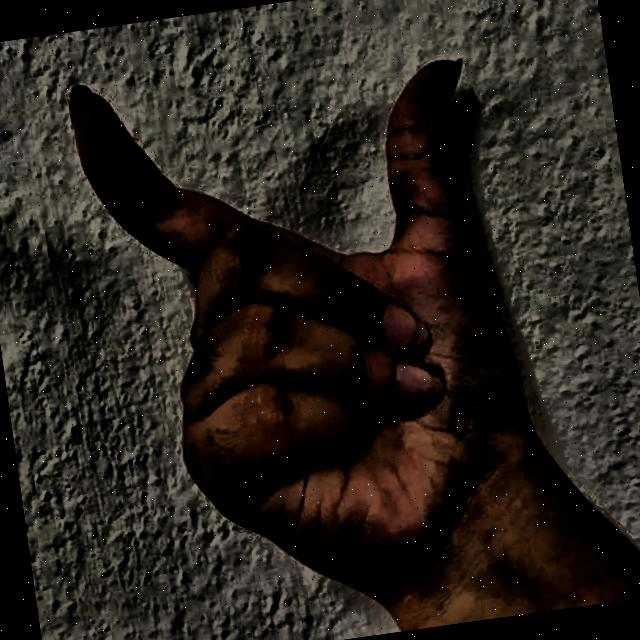ChandraBindu: (40, 0, 573, 640)
